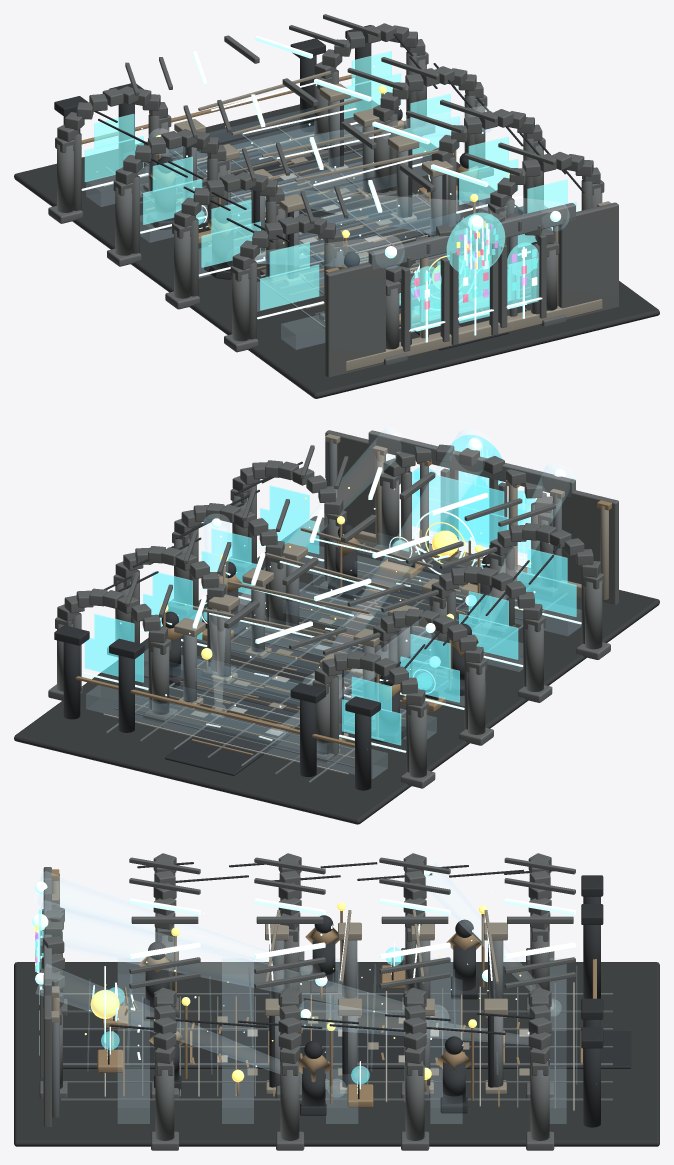
The model's file is fog-cathedral-blender.glb.
3 renders of one model, top to bottom at view 1: azimuth 30°, elevation 25°; view 2: azimuth 150°, elevation 25°; view 3: azimuth 270°, elevation 25°, orthographic. The views are drawn at different scales.
Visible parts, largest first — view 1: batched smoke dark basalt masonry, long wet nave floor, batched moonlit stained glass planes, batched blackened machine steel, batched rounded translucent shaft proxy volumes, batched warm worn limestone highlights, batched cool blue grey carved stone, batched blue white emissive tracery, batched milky low floor fog, batched aged bronze edge detail, batched varied wet slate floor tiles, batched pale worn aisle stone inlays; view 2: batched smoke dark basalt masonry, long wet nave floor, batched moonlit stained glass planes, batched blackened machine steel, batched rounded translucent shaft proxy volumes, batched milky low floor fog, batched cool blue grey carved stone, batched warm worn limestone highlights, batched aged bronze edge detail, batched blue white emissive tracery, batched varied wet slate floor tiles, batched pale worn aisle stone inlays (+1 smaller); view 3: long wet nave floor, batched smoke dark basalt masonry, batched blackened machine steel, batched rounded translucent shaft proxy volumes, batched milky low floor fog, batched cool blue grey carved stone, batched aged bronze edge detail, batched blue white emissive tracery, batched warm worn limestone highlights, batched varied wet slate floor tiles, batched pale worn aisle stone inlays, batched small amber altar glow (+1 smaller).
Boxes of the visible parts, bbox=[...] form: batched smoke dark basalt masonry: bbox=[48, 14, 618, 377]; long wet nave floor: bbox=[14, 96, 659, 398]; batched moonlit stained glass planes: bbox=[84, 51, 576, 332]; batched blackened machine steel: bbox=[54, 25, 584, 350]; batched rounded translucent shaft proxy volumes: bbox=[147, 106, 569, 268]; batched warm worn limestone highlights: bbox=[174, 71, 610, 371]; batched cool blue grey carved stone: bbox=[106, 100, 575, 331]; batched blue white emissive tracery: bbox=[81, 36, 561, 342]; batched milky low floor fog: bbox=[86, 117, 484, 349]; batched aged bronze edge detail: bbox=[81, 74, 530, 324]; batched varied wet slate floor tiles: bbox=[114, 127, 527, 327]; batched pale worn aisle stone inlays: bbox=[103, 134, 530, 328]; batched smoke dark basalt masonry: bbox=[48, 430, 618, 788]; long wet nave floor: bbox=[14, 516, 659, 824]; batched moonlit stained glass planes: bbox=[84, 435, 576, 745]; batched blackened machine steel: bbox=[54, 461, 572, 790]; batched rounded translucent shaft proxy volumes: bbox=[203, 427, 574, 733]; batched milky low floor fog: bbox=[86, 546, 581, 778]; batched cool blue grey carved stone: bbox=[106, 430, 575, 782]; batched warm worn limestone highlights: bbox=[174, 434, 608, 744]; batched aged bronze edge detail: bbox=[75, 459, 611, 758]; batched blue white emissive tracery: bbox=[81, 433, 581, 752]; batched varied wet slate floor tiles: bbox=[114, 551, 531, 774]; batched pale worn aisle stone inlays: bbox=[103, 561, 517, 774]; long wet nave floor: bbox=[14, 962, 659, 1146]; batched smoke dark basalt masonry: bbox=[39, 853, 575, 1150]; batched blackened machine steel: bbox=[63, 862, 631, 1127]; batched rounded translucent shaft proxy volumes: bbox=[33, 861, 561, 1096]; batched milky low floor fog: bbox=[118, 958, 566, 1123]; batched cool blue grey carved stone: bbox=[43, 878, 612, 1117]; batched aged bronze edge detail: bbox=[51, 869, 596, 1107]; batched blue white emissive tracery: bbox=[31, 870, 575, 1093]; batched warm worn limestone highlights: bbox=[43, 873, 529, 1115]; batched varied wet slate floor tiles: bbox=[62, 983, 612, 1109]; batched pale worn aisle stone inlays: bbox=[104, 982, 574, 1110]; batched small amber altar glow: bbox=[35, 902, 561, 1090].
Size of the model in its own units: 8.89 by 3.29 by 12.4.
